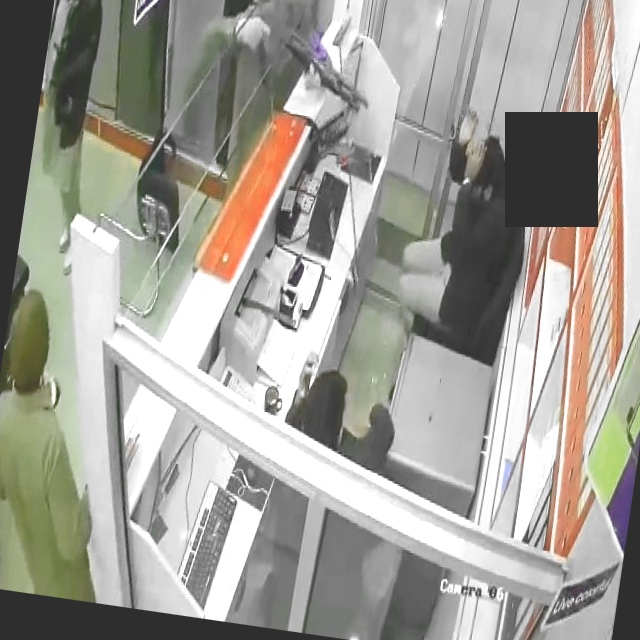gun: (269, 26, 383, 127)
